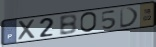2: (39, 16, 57, 39)
5: (101, 9, 117, 30)
B: (59, 13, 79, 37)
D: (119, 6, 140, 29)
O: (79, 11, 98, 34)
X: (17, 18, 37, 42)
